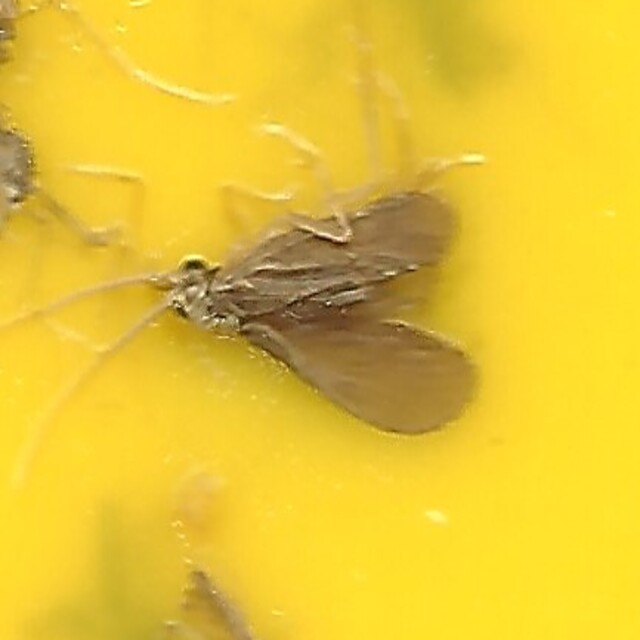Trichoptera: (148, 181, 492, 459)
